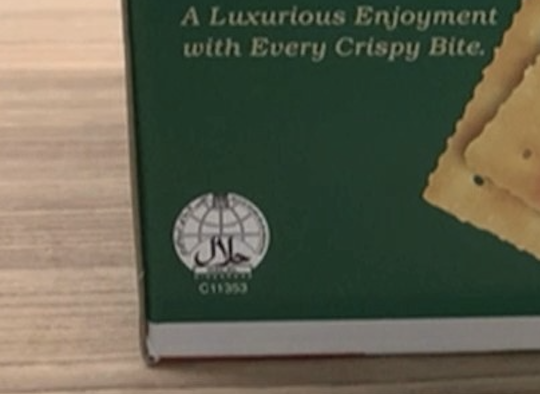halal: (188, 209, 256, 270)
